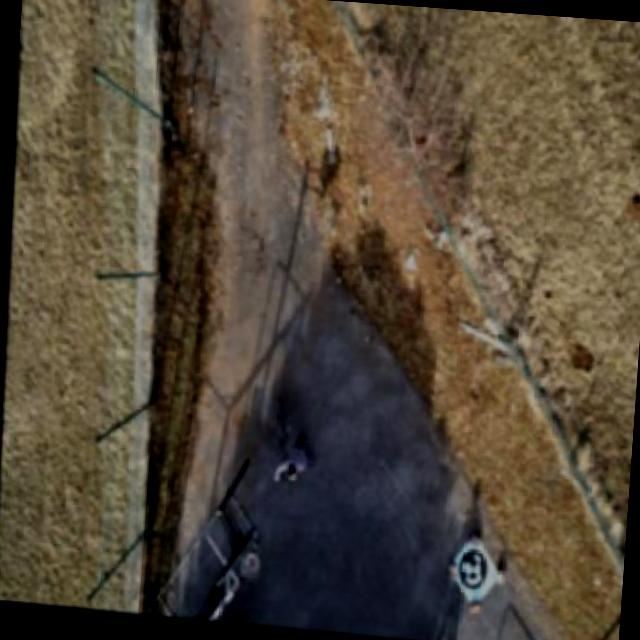Person: (252, 428, 324, 493), (203, 606, 253, 626)
